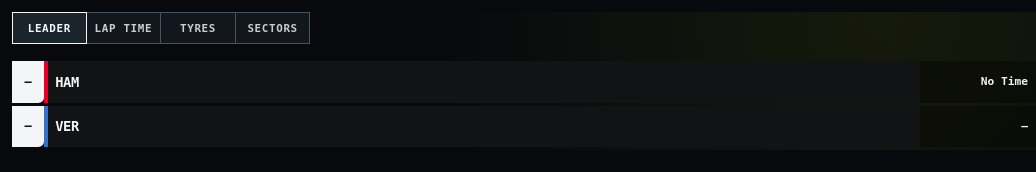
it: renders sampled classification state without exposing final elimination early
The width and height of the screenshot is (1036, 172).
Expected: the table named "Qualifying classification" is shown, [12,52,1035,150]
Expected: the cell "No Time" is shown, [920,61,1035,103]
Click the button "Lap time": {"x": 124, "y": 28} [87,12,161,44]
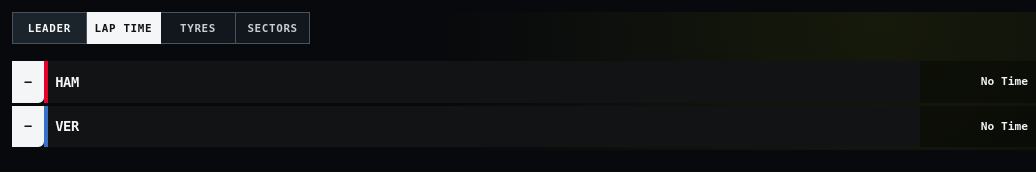
Expected: the 2nd cell "No Time" is shown, [920,106,1035,147]
Click the button "Tyres": {"x": 198, "y": 28} [161,12,236,44]
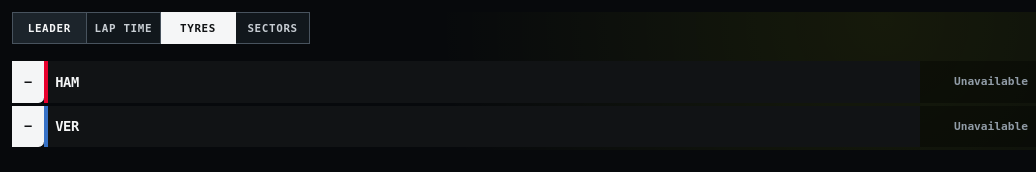
Expected: the 2nd cell "Unavailable" is shown, [920,106,1035,147]
